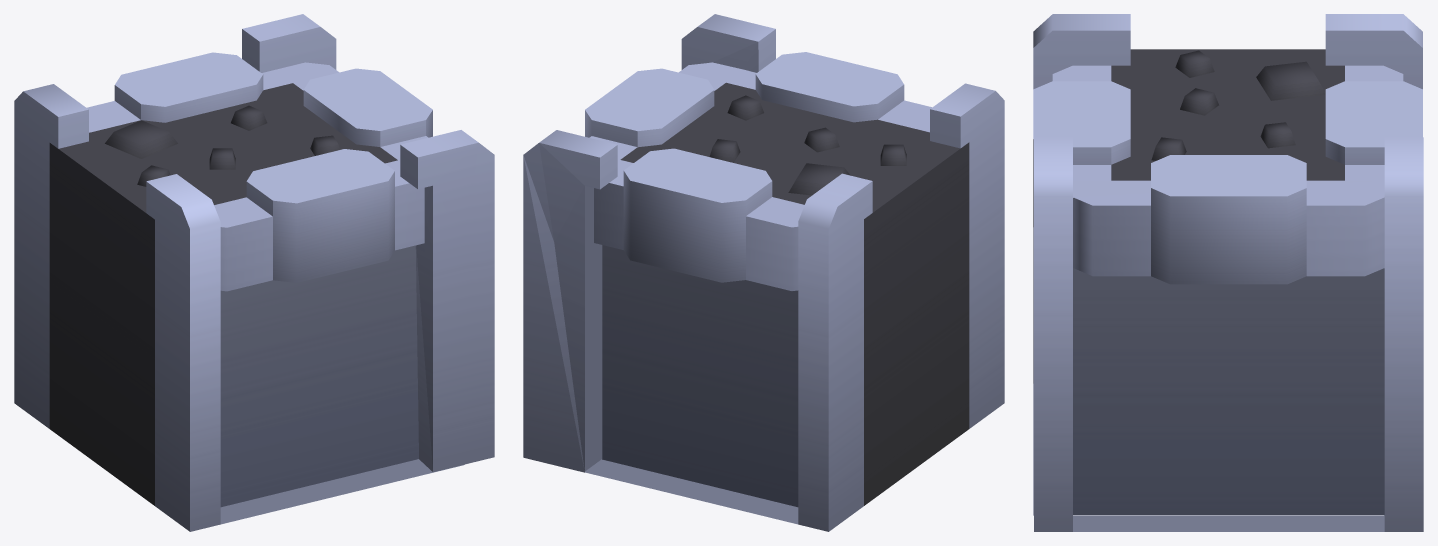
The model's file is 3Sided-Wall.glb.
The picture shows the model from 3 angles, left to right: view 1: azimuth 30°, elevation 25°; view 2: azimuth 150°, elevation 25°; view 3: azimuth 270°, elevation 25°; orthographic projection. The views are drawn at different scales.
Visible parts, largest first — view 1: wall-threesided; view 2: wall-threesided; view 3: wall-threesided.
Boxes of the visible parts, x1=… form: wall-threesided: x1=14, y1=14, x2=494, y2=531; wall-threesided: x1=523, y1=14, x2=1004, y2=531; wall-threesided: x1=1033, y1=14, x2=1423, y2=531.
Size of the model in its own units: 1 by 1 by 1.
Materials: 1 (1 with a texture image).
